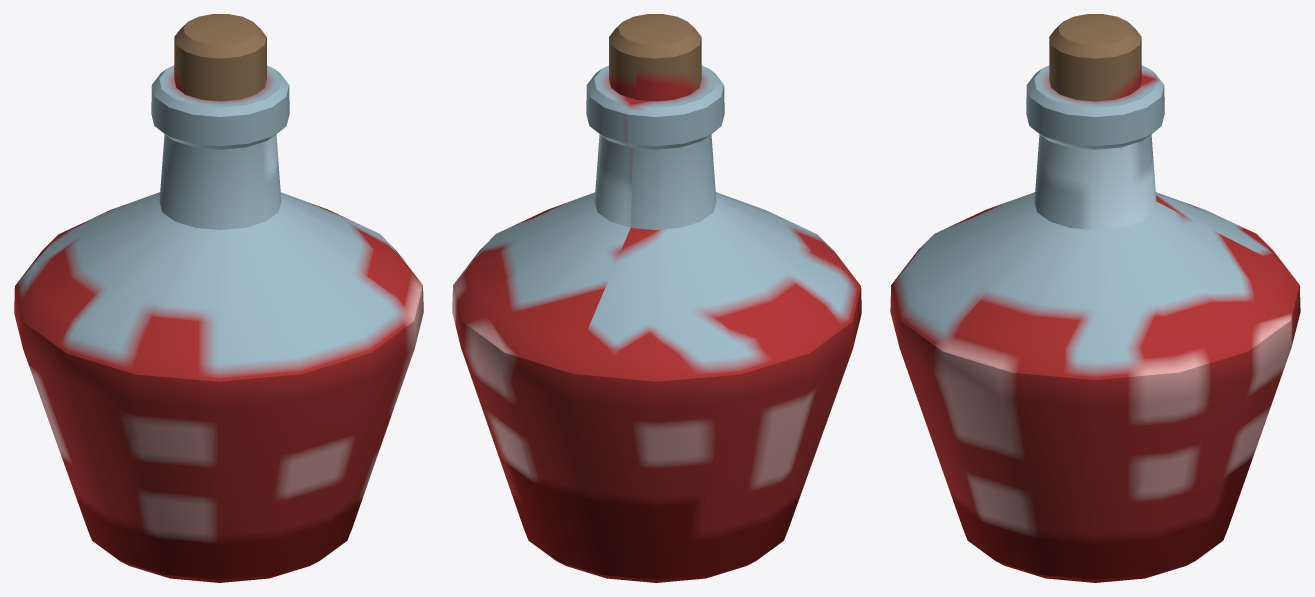
Rendered from Dye Bottle Version2.fbx.
3 views of the same model, side by side, from view 1: azimuth 30°, elevation 25°; view 2: azimuth 150°, elevation 25°; view 3: azimuth 270°, elevation 25° (orthographic).
Parts seen in each view (by area): view 1: Potion_Bottle_6; view 2: Potion_Bottle_6; view 3: Potion_Bottle_6.
Part boxes in pixels (x1,y1,x2,y2): Potion_Bottle_6: (14,14,423,582); Potion_Bottle_6: (452,14,861,582); Potion_Bottle_6: (890,14,1300,582).
Bounding box in the file's own units: 8.17 × 11.21 × 8.21.
1 material, 1 textured.
